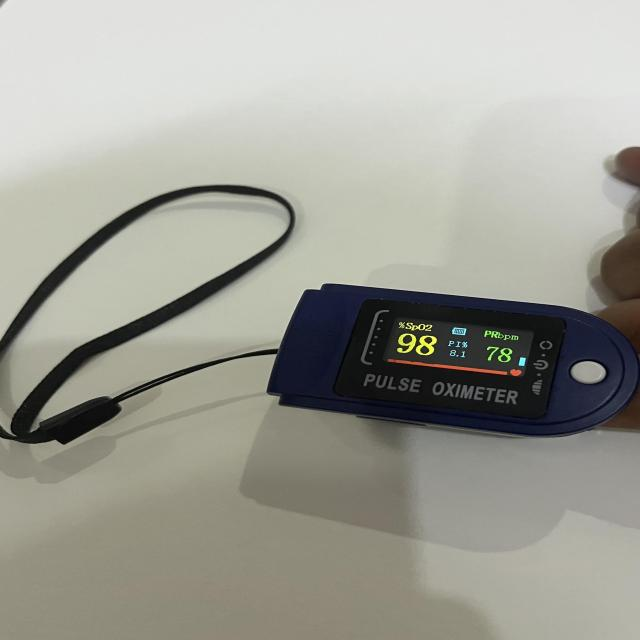spo2: (276, 290, 640, 438)
